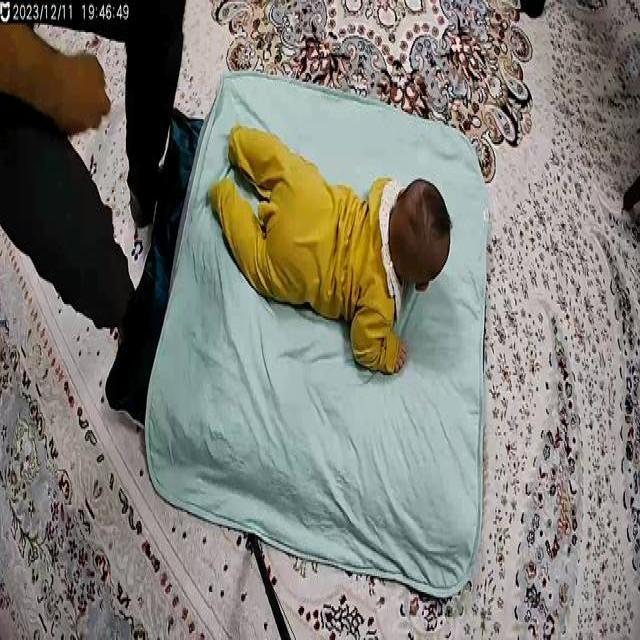baby: (203, 108, 452, 382)
